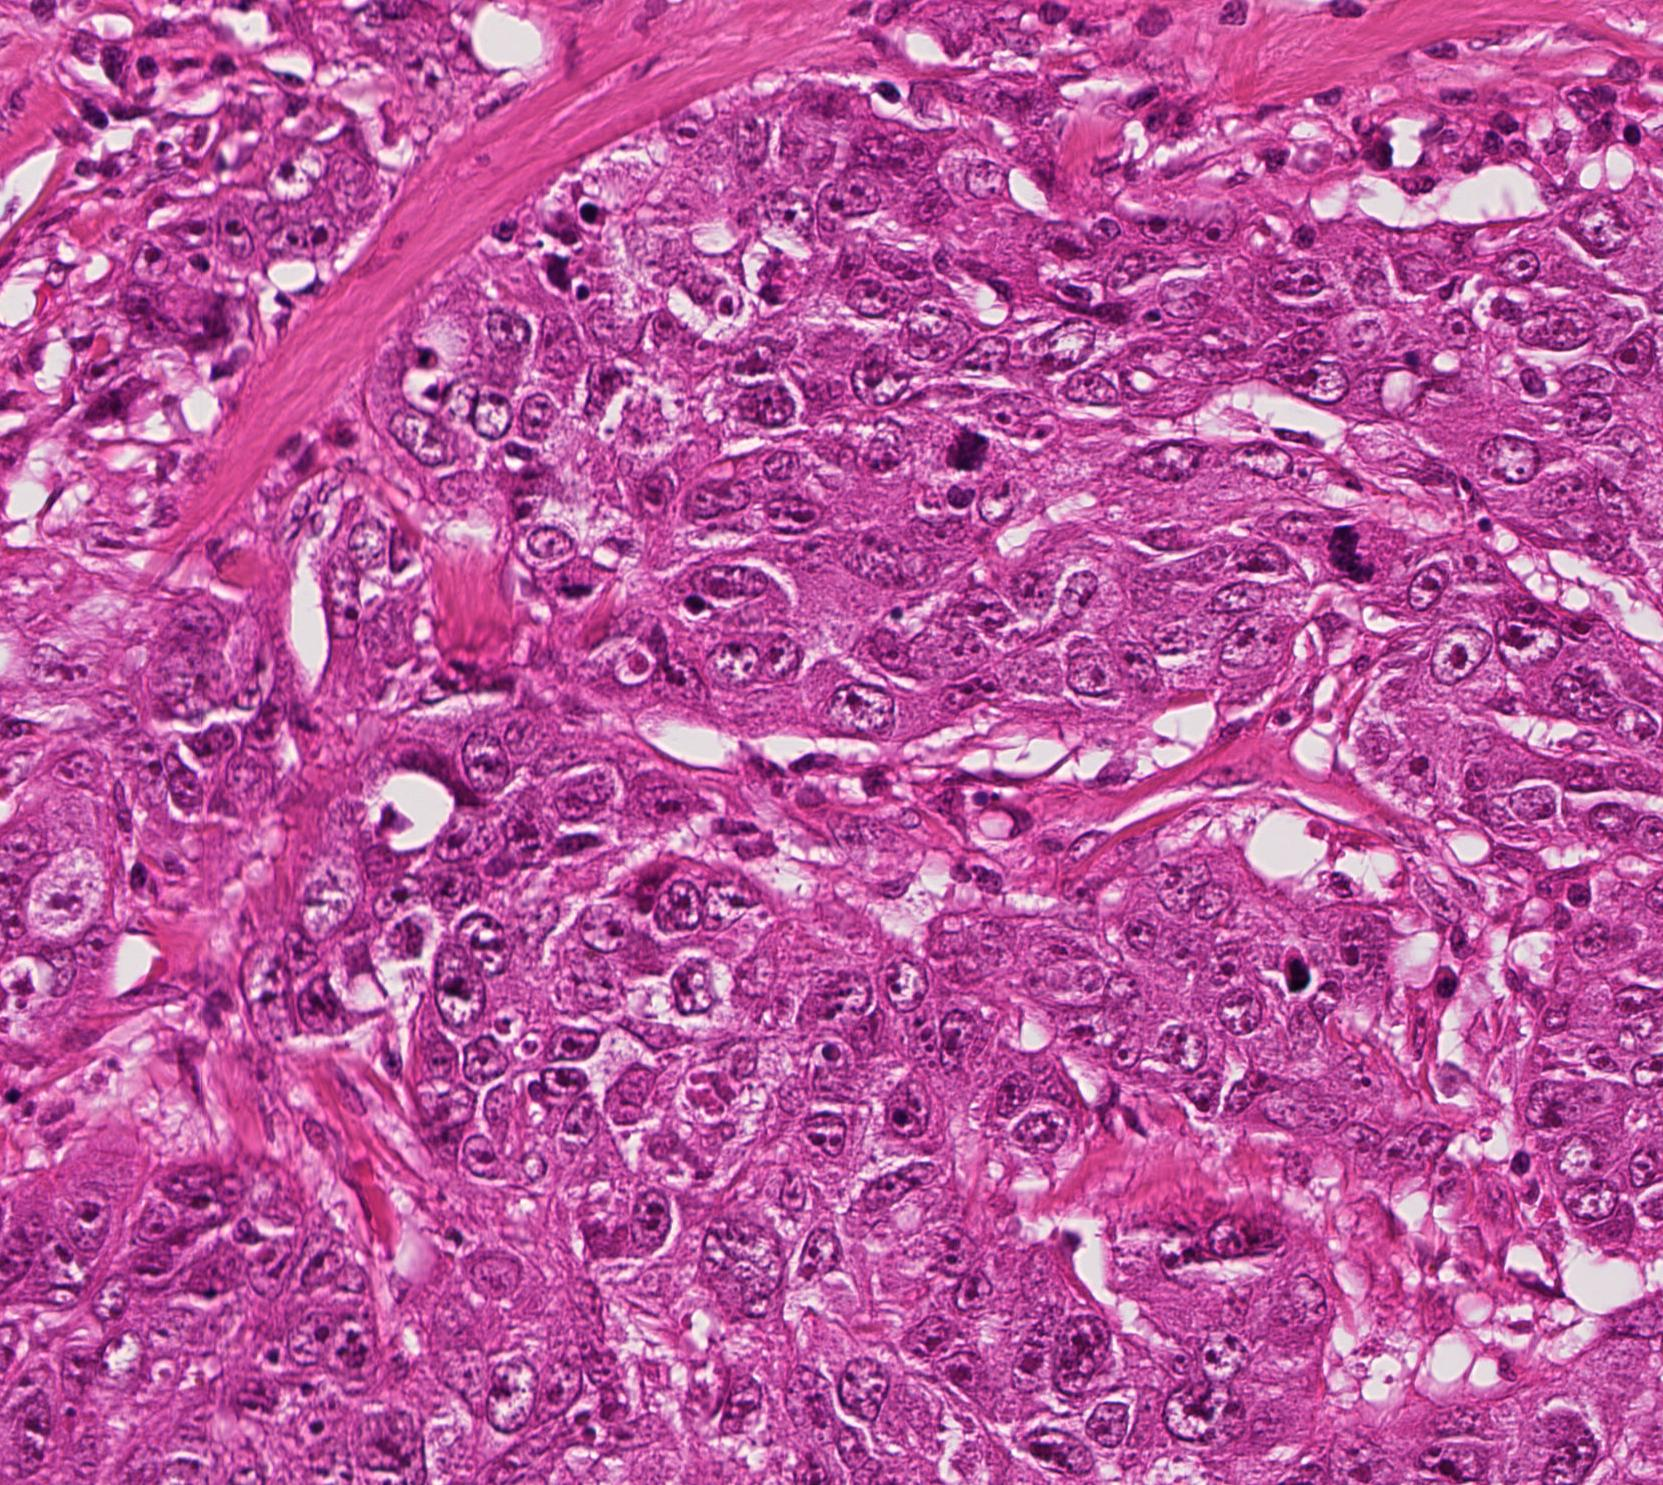mitosis: (1313, 512, 1373, 572), (938, 410, 996, 470)
